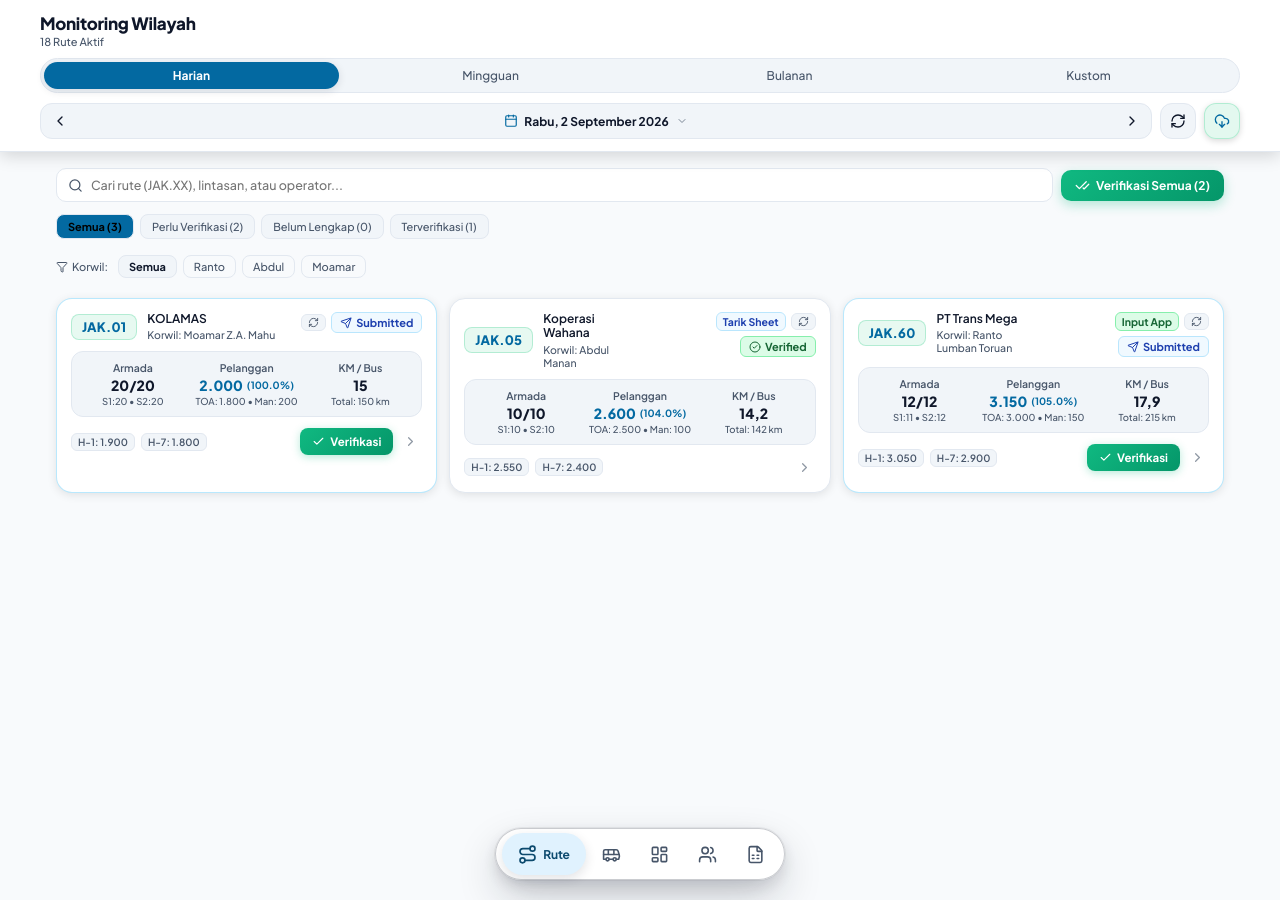
AllRouteMonitoringPage Component › navigates to korwil tab and renders supervisor summaries
What coordinates should you click on to do the following:
click the tab with test id "monitoring-tab-korwil"
I would click on:
 (708, 854)
Its box is [686,833,730,875].
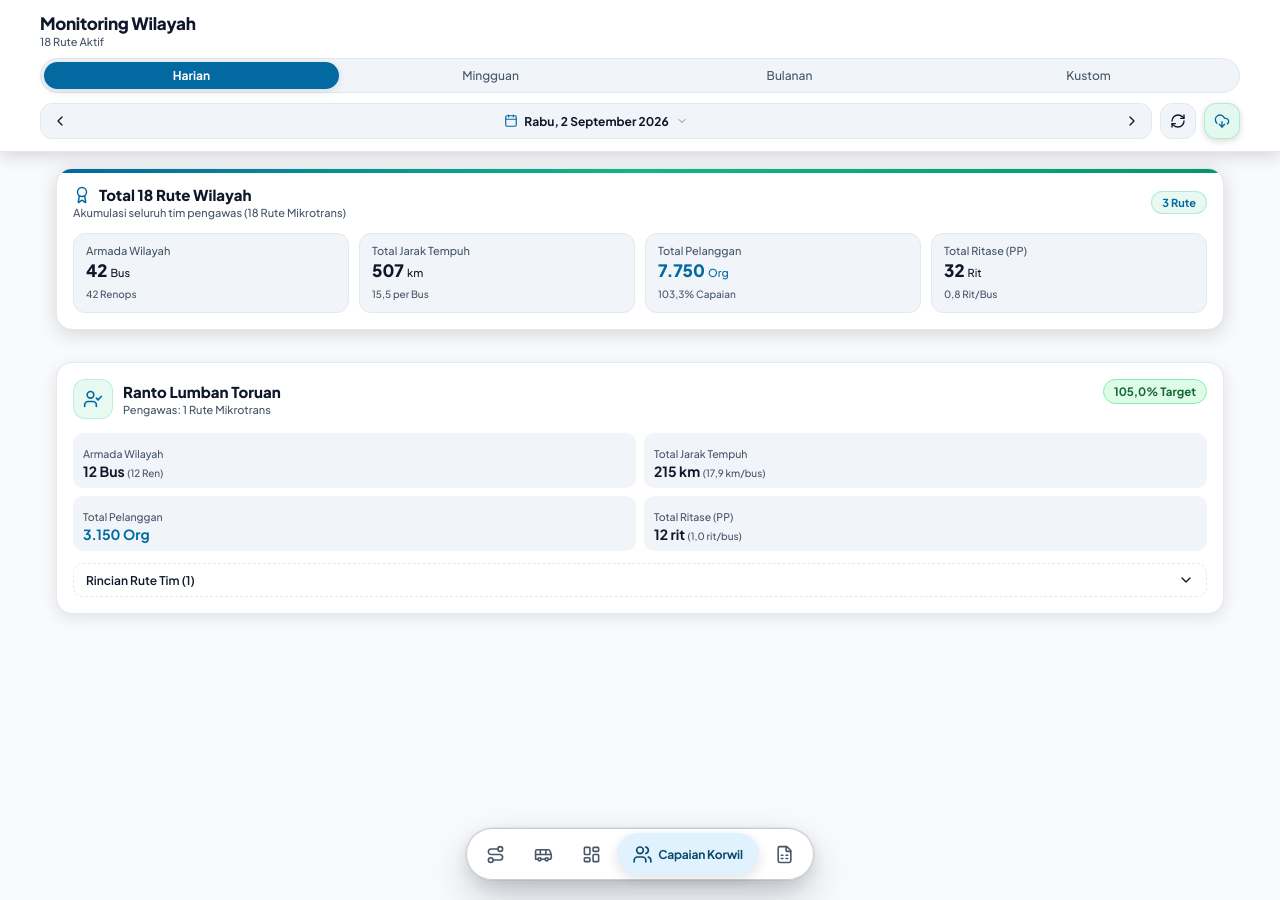
Expected: the text "Ranto Lumban Toruan" is shown, [123,382,281,400]
Now the text "Total 18 Rute Wilayah" is shown, box [73,185,252,204]
